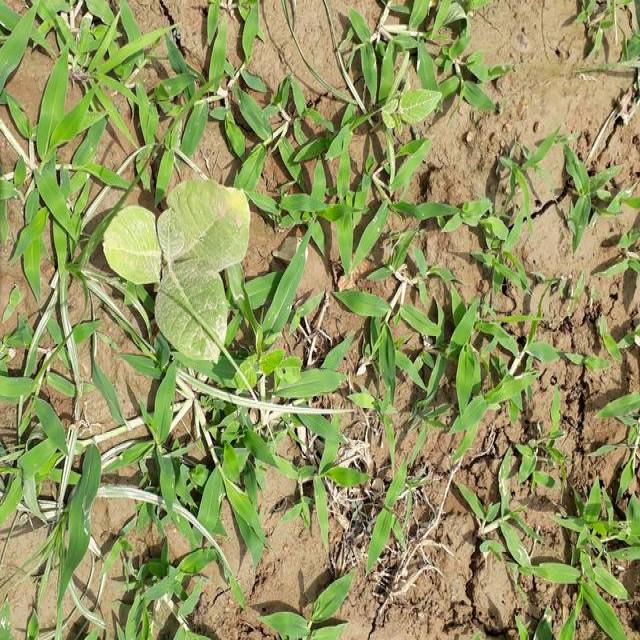crop: (99, 163, 258, 364)
